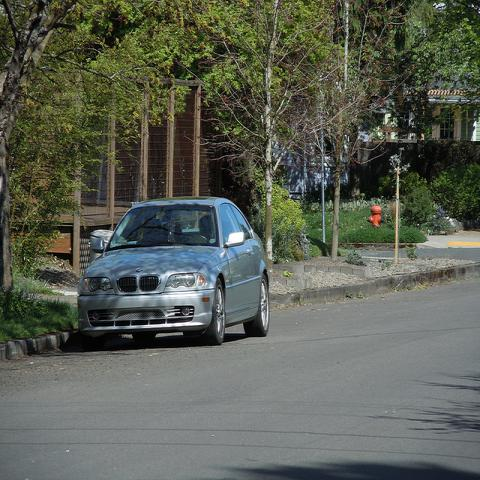car: (76, 195, 269, 350)
